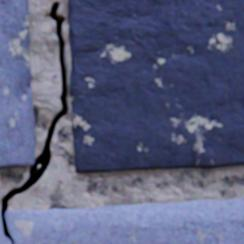brick: (67, 0, 243, 173), (0, 0, 35, 168)
broken_brick: (5, 198, 243, 243), (0, 212, 11, 243)
crack: (0, 1, 69, 243)
